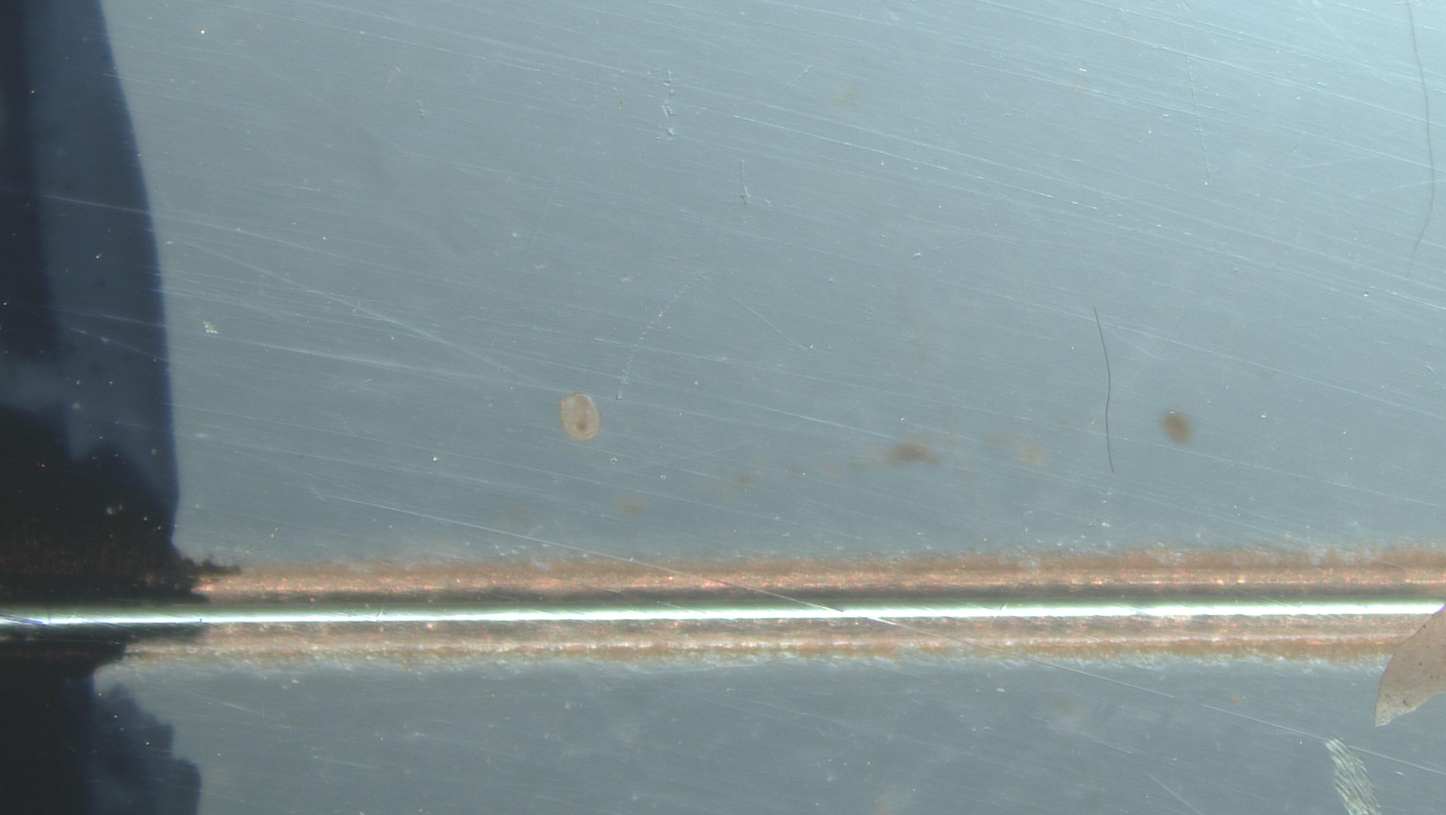live: (560, 393, 601, 442)
